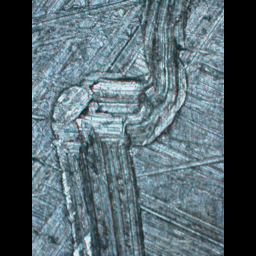d: (48, 0, 202, 254)
